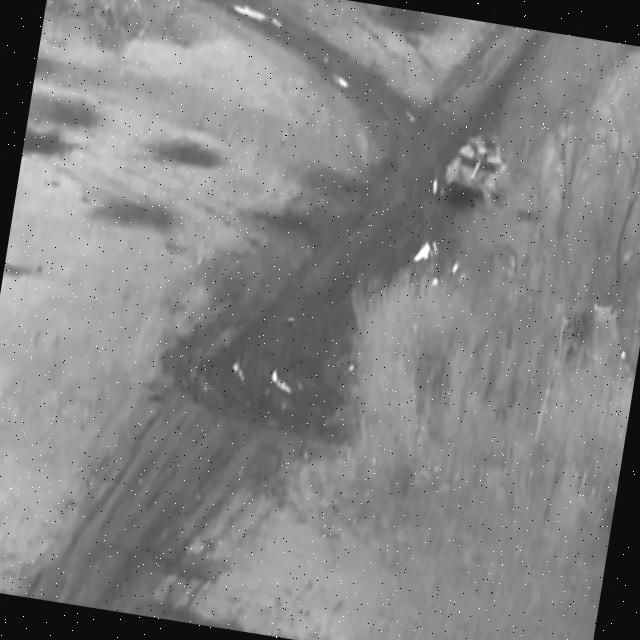MBT: (439, 121, 521, 216)
